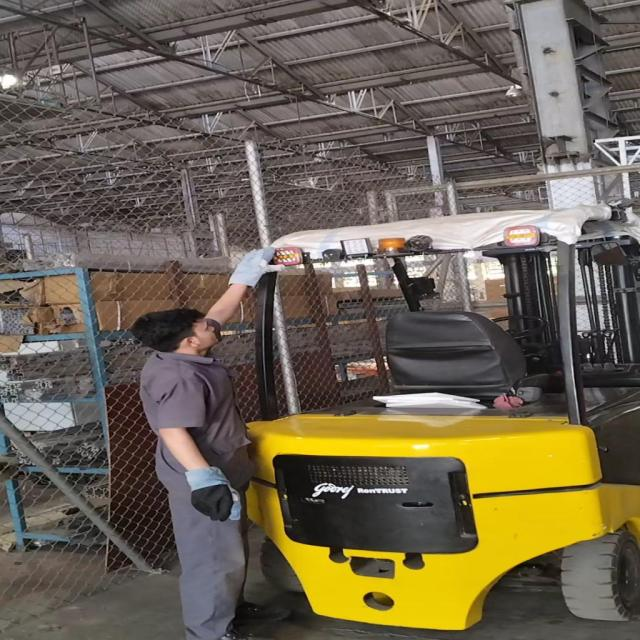Gloves-Detection: (168, 464, 248, 530), (224, 240, 282, 296)
